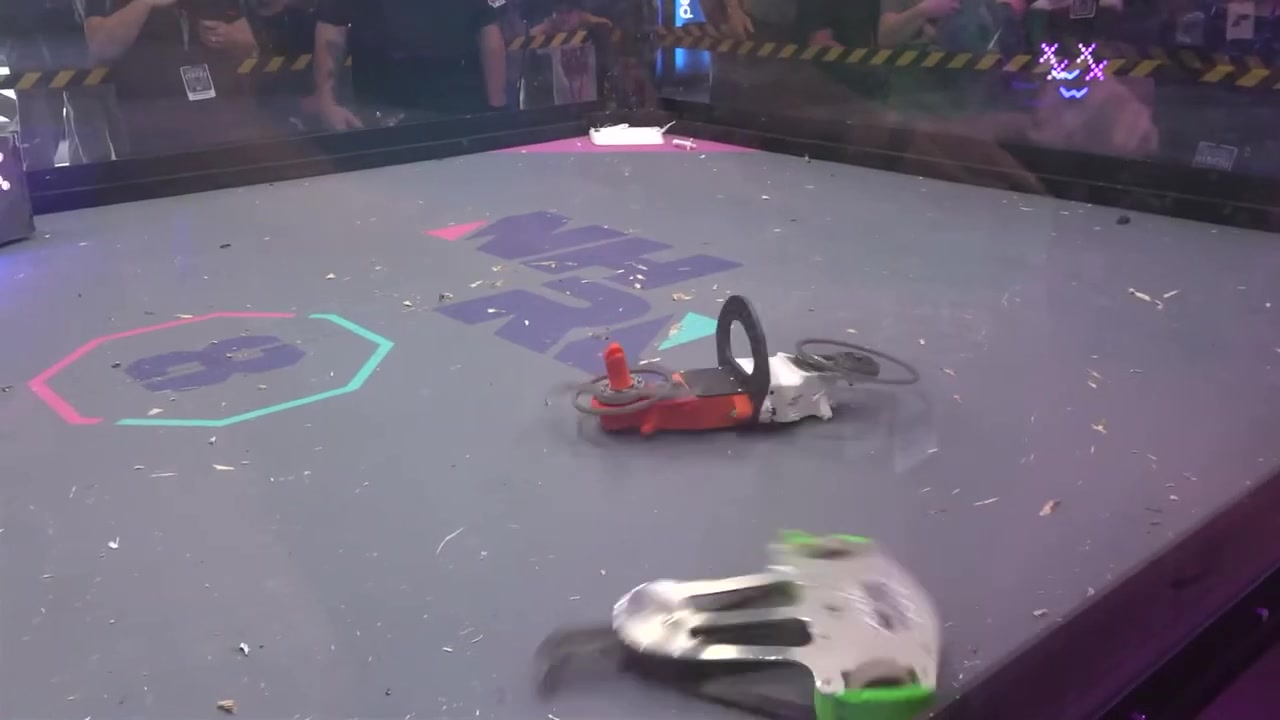combatbot: (534, 527, 944, 715), (549, 292, 922, 441)
housebot: (0, 126, 37, 250)
minibot: (586, 122, 673, 144)
